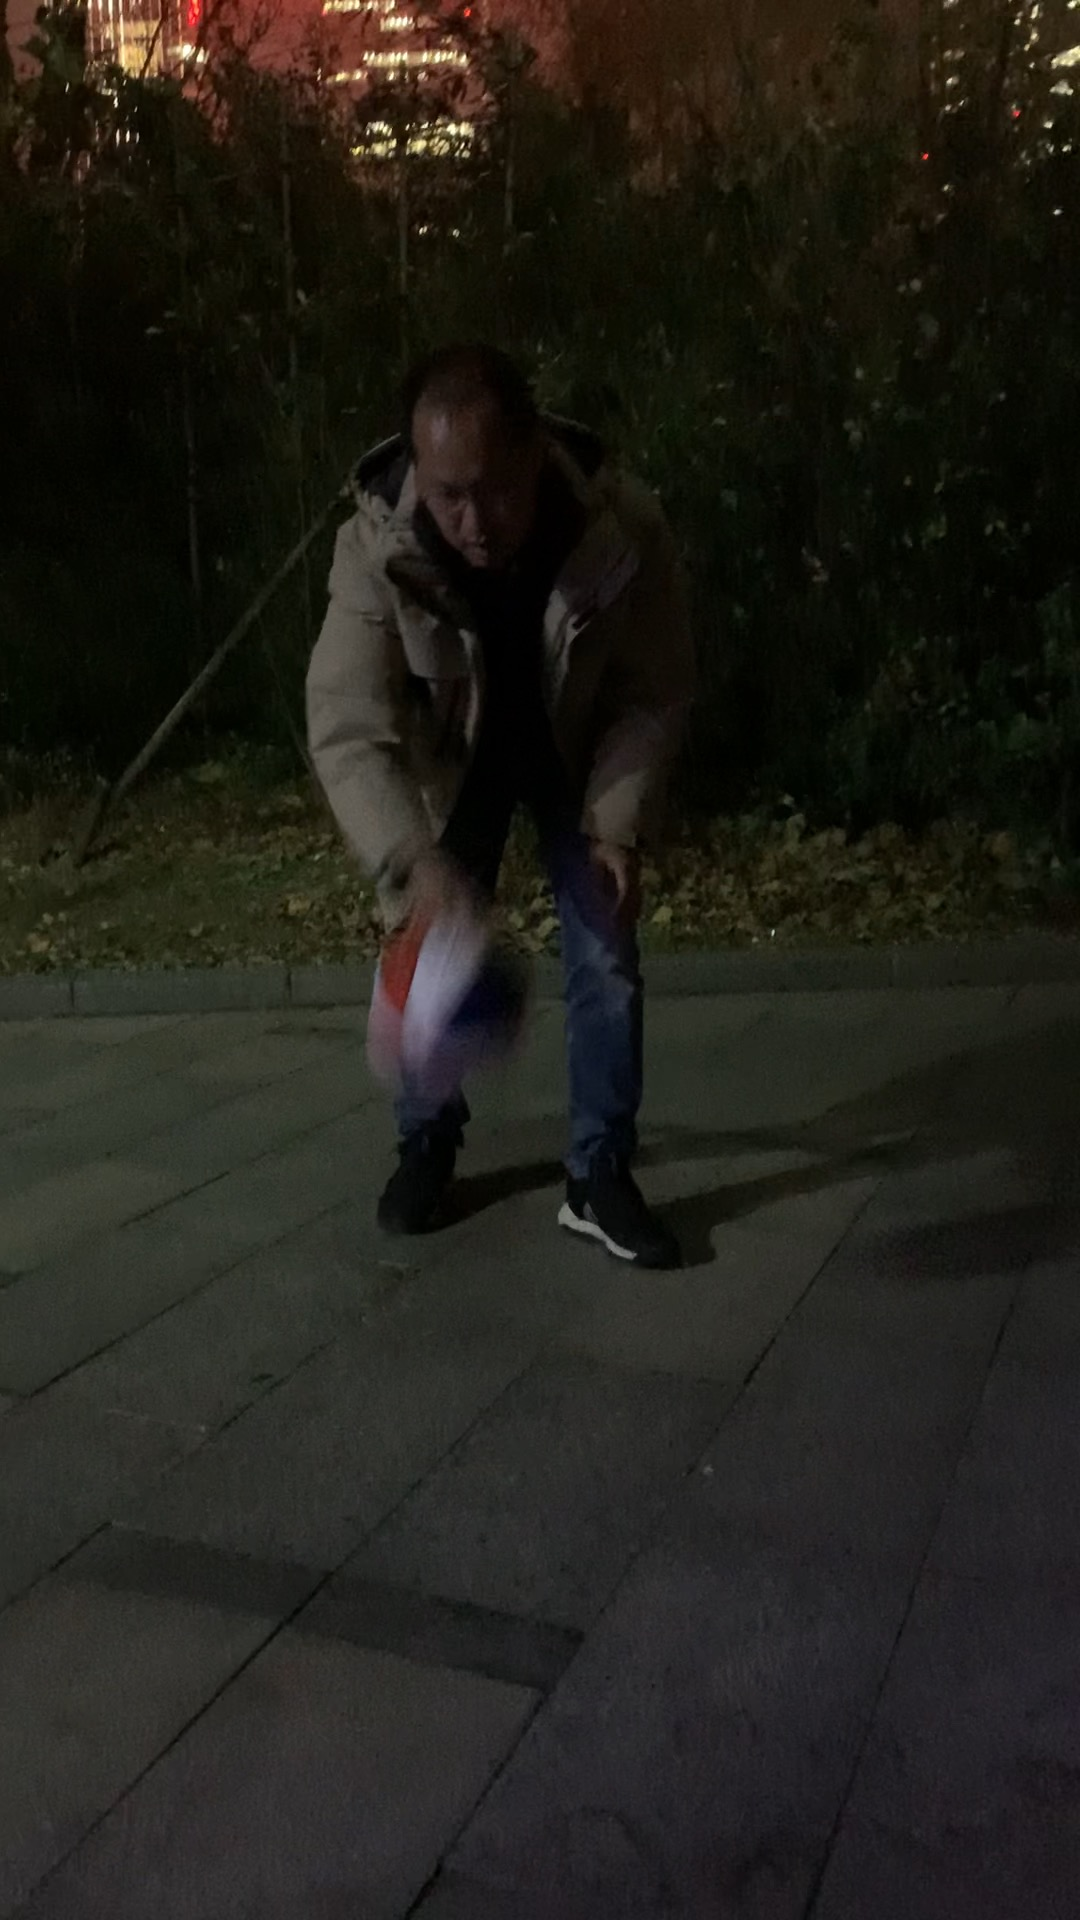ball: (369, 913, 541, 1077)
